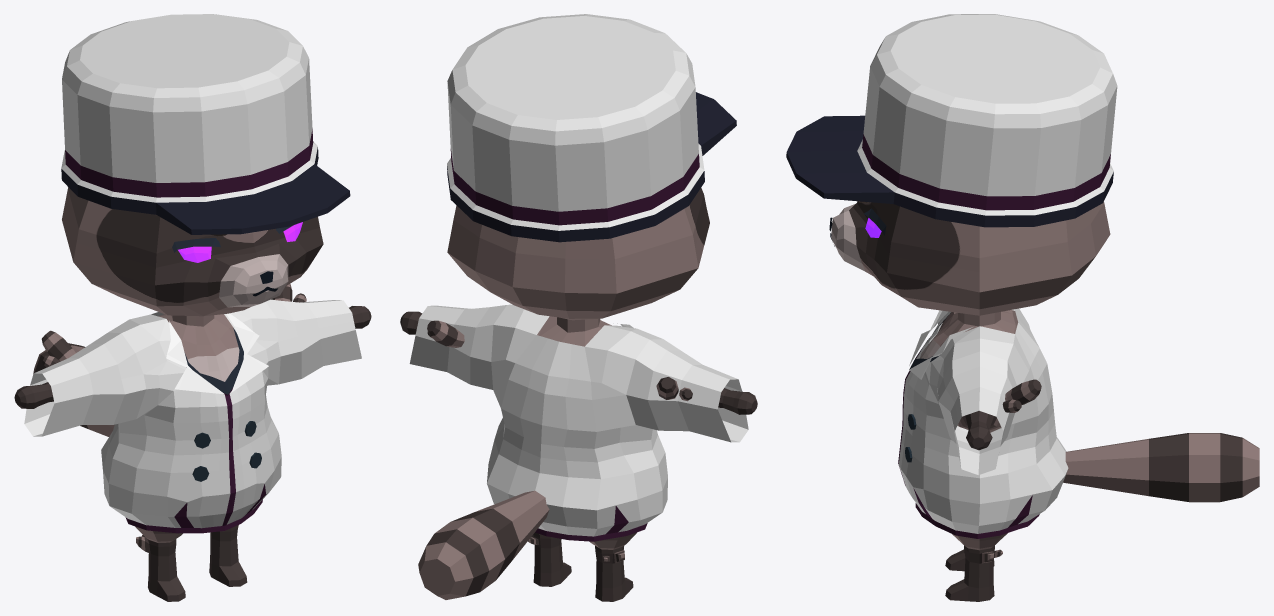
File: Test_Camo.fbx
3 views of the same model, side by side, from view 1: azimuth 30°, elevation 25°; view 2: azimuth 150°, elevation 25°; view 3: azimuth 270°, elevation 25° (orthographic).
Visible parts, largest first — view 1: FKHat.001, FKUniform.004, RaccoonBody01.RedBrown, EyeGuy.AstraGel, RaccoonTail.RedBrown.Long.001; view 2: FKHat.001, FKUniform.004, RaccoonBody01.RedBrown, RaccoonTail.RedBrown.Long.001; view 3: FKHat.001, FKUniform.004, RaccoonBody01.RedBrown, RaccoonTail.RedBrown.Long.001.
Boxes of the visible parts, x1,y1,x2,y2 form: FKHat.001: (61,14,350,234); FKUniform.004: (24,299,361,533); RaccoonBody01.RedBrown: (14,187,371,601); EyeGuy.AstraGel: (172,222,302,262); RaccoonTail.RedBrown.Long.001: (33,343,114,436); FKHat.001: (447,14,736,242); FKUniform.004: (409,304,748,541); RaccoonBody01.RedBrown: (400,188,757,601); RaccoonTail.RedBrown.Long.001: (418,490,549,599); FKHat.001: (786,14,1117,227); FKUniform.004: (898,308,1068,538); RaccoonBody01.RedBrown: (831,201,1110,601); RaccoonTail.RedBrown.Long.001: (1063,433,1259,502).
Bounding box in the file's own units: 168 × 245 × 198.
